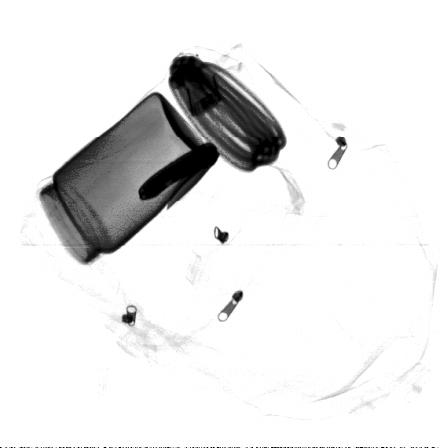Knife: (137, 141, 220, 212)
